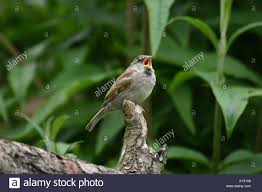hsparrow: (82, 50, 163, 133)
